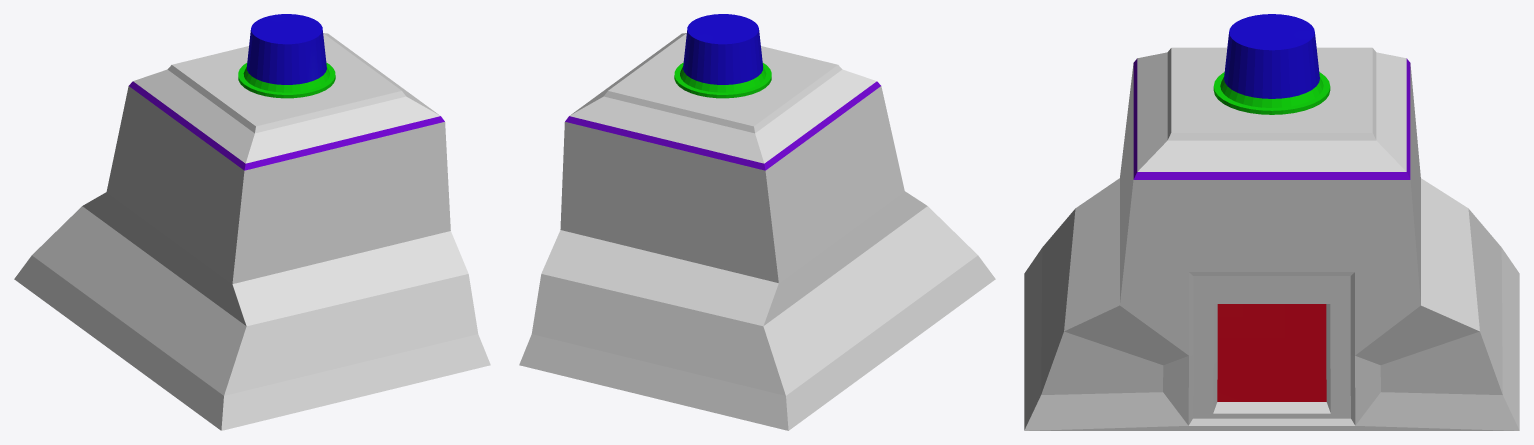
Rendered from BunkerEntrance.fbx.
3 renders of one model, left to right at view 1: azimuth 30°, elevation 25°; view 2: azimuth 150°, elevation 25°; view 3: azimuth 270°, elevation 25°, orthographic. The views are drawn at different scales.
Parts seen in each view (by area): view 1: Cube; view 2: Cube; view 3: Cube.
Boxes of the visible parts, x1,y1,x2,y2 form: Cube: (14,14,490,430); Cube: (519,14,995,430); Cube: (1024,14,1519,430).
Size of the model in its own units: 2.69 by 2.71 by 3.58.
